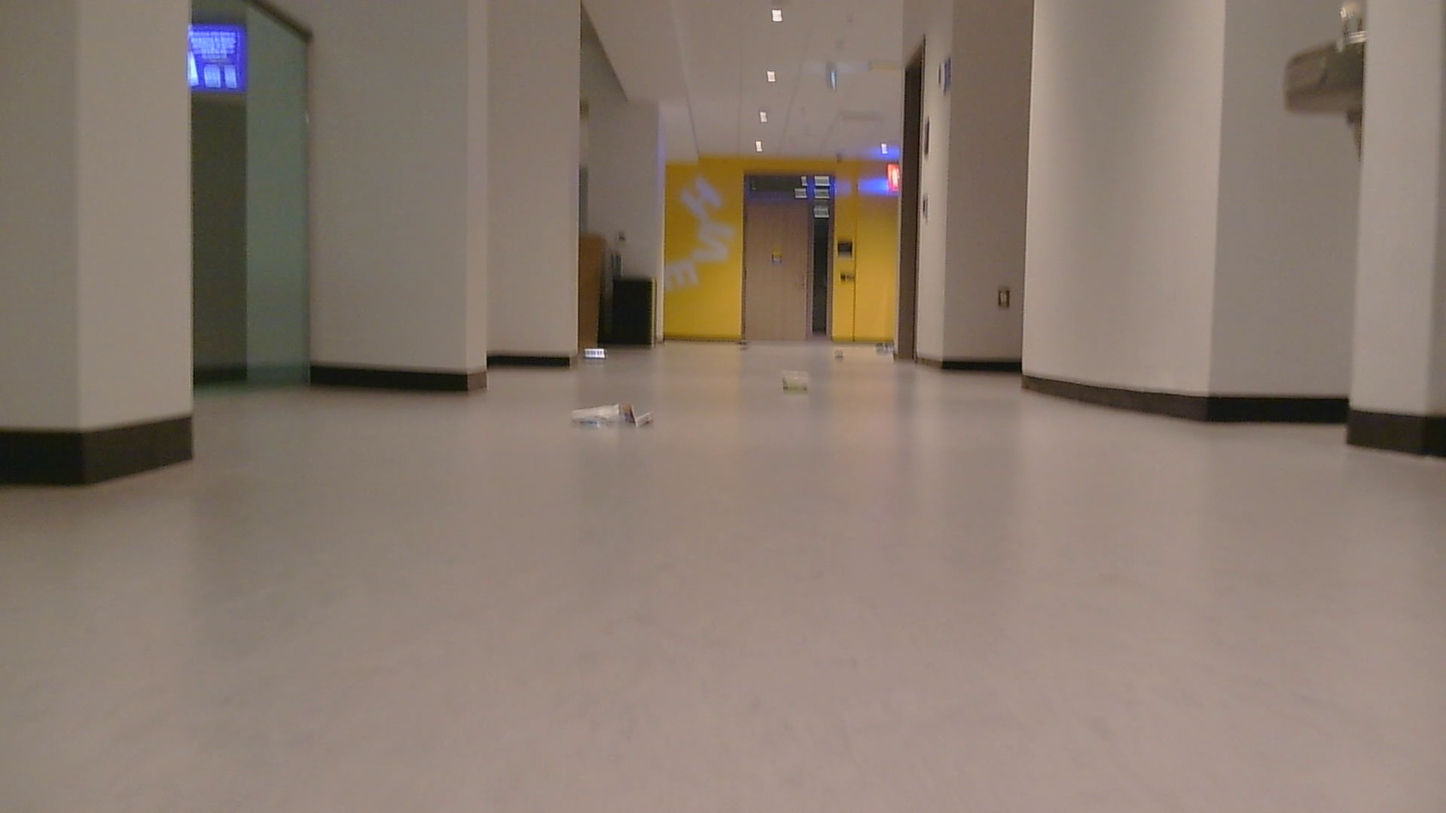carton: (569, 393, 660, 442), (773, 364, 819, 406), (586, 342, 603, 364), (877, 337, 898, 353), (834, 345, 845, 365), (734, 328, 743, 351)
